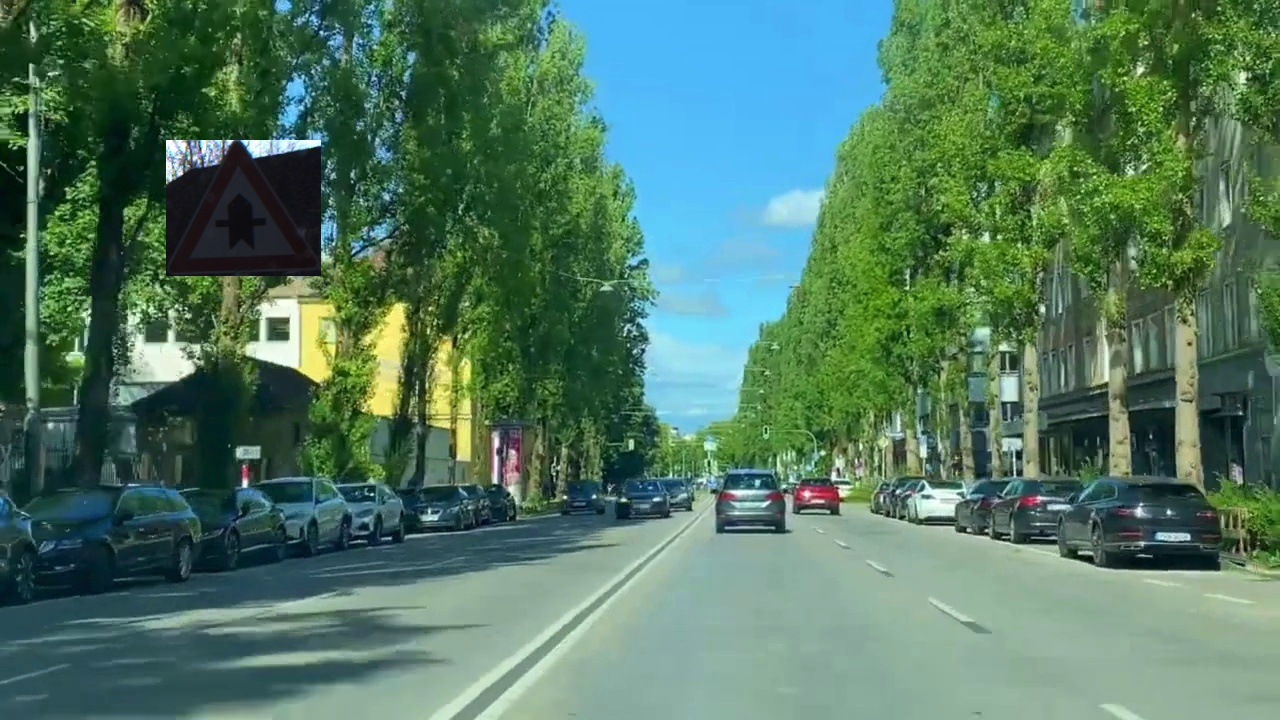Right-of-way: (166, 140, 321, 276)
